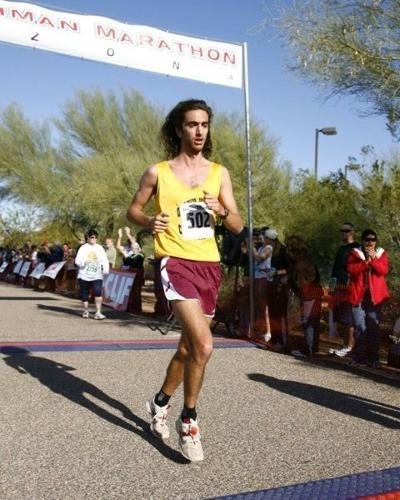person: (126, 98, 247, 466)
